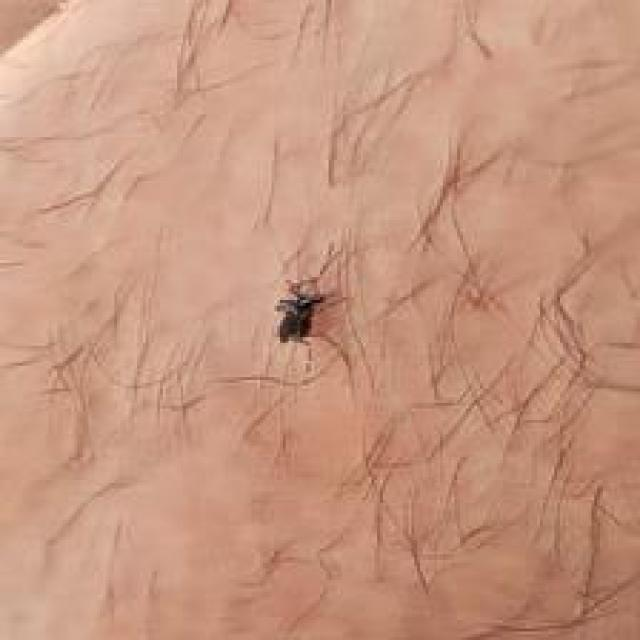Aedes albopictus: (273, 277, 327, 346)
